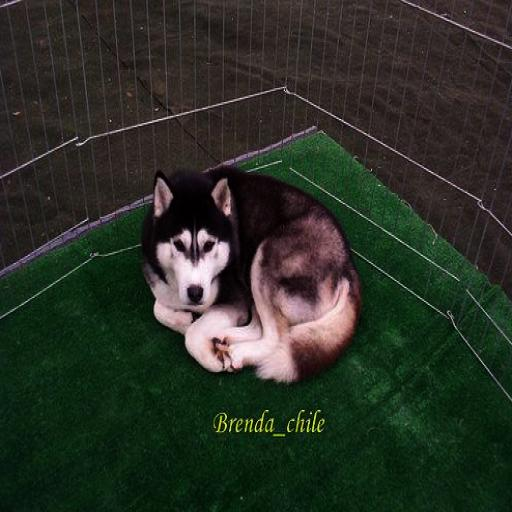dog_face: (146, 165, 240, 316)
